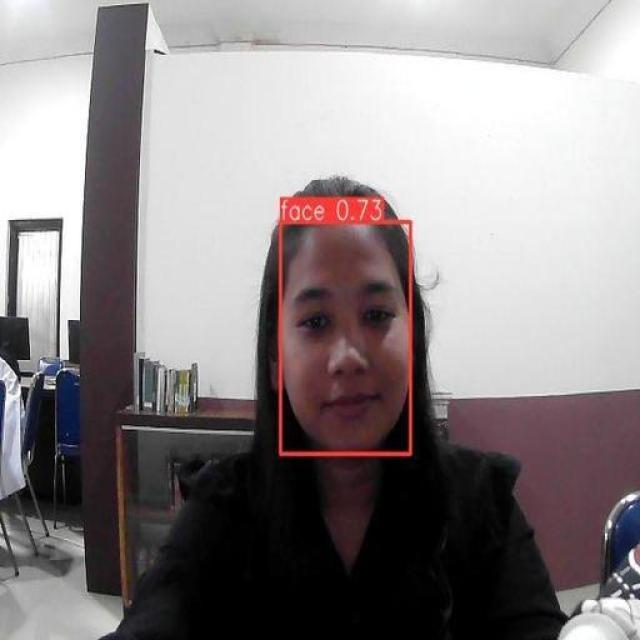bareface: (258, 184, 420, 454)
